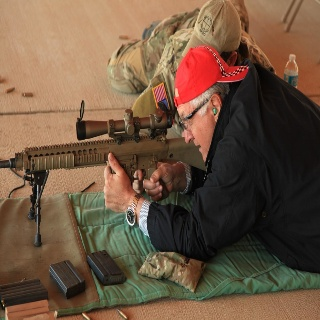rifle: (1, 97, 208, 245)
